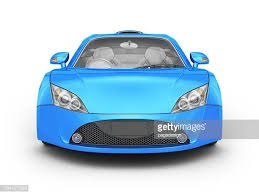bmw: (22, 28, 248, 157)
